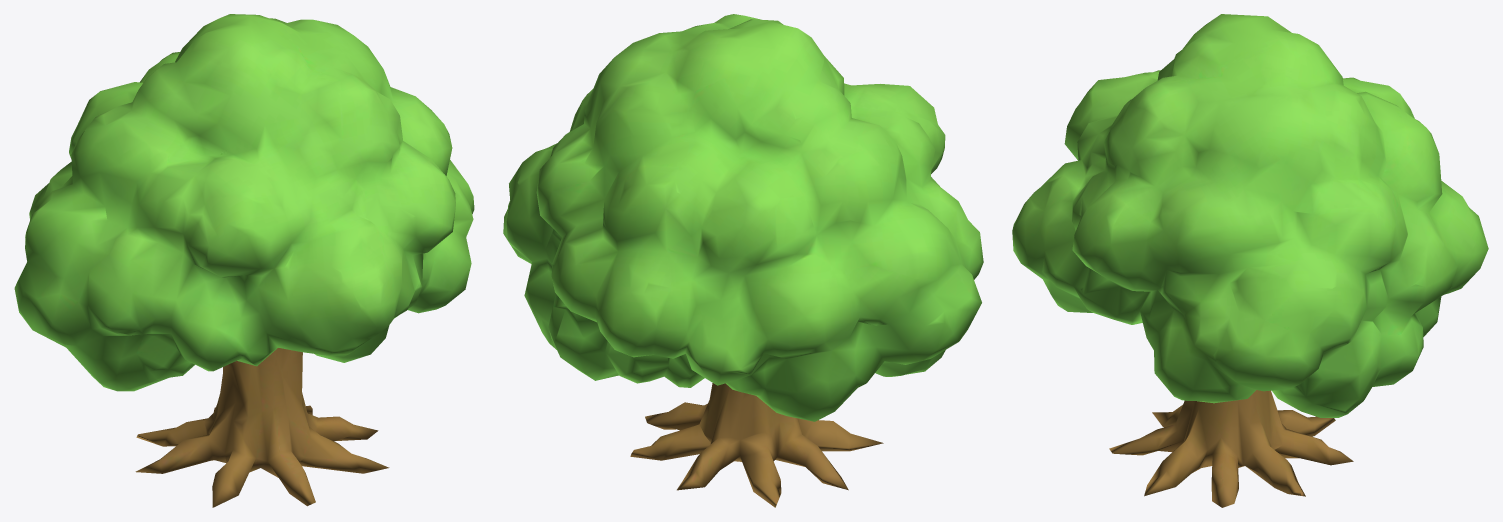
The model's file is arbre-chene.glb.
3 views of the same model, side by side, from view 1: azimuth 30°, elevation 25°; view 2: azimuth 150°, elevation 25°; view 3: azimuth 270°, elevation 25° (orthographic).
Parts seen in each view (by area): view 1: tripo_node_aba7e9a6-1975-4e88-9e9e-e1cecdf012ec; view 2: tripo_node_aba7e9a6-1975-4e88-9e9e-e1cecdf012ec; view 3: tripo_node_aba7e9a6-1975-4e88-9e9e-e1cecdf012ec.
Boxes of the visible parts, x1=… form: tripo_node_aba7e9a6-1975-4e88-9e9e-e1cecdf012ec: x1=14, y1=14, x2=474, y2=507; tripo_node_aba7e9a6-1975-4e88-9e9e-e1cecdf012ec: x1=503, y1=14, x2=983, y2=507; tripo_node_aba7e9a6-1975-4e88-9e9e-e1cecdf012ec: x1=1012, y1=14, x2=1488, y2=507.
Bounding box in the file's own units: 1 × 0.931 × 0.9382.
1 material, 1 textured.
